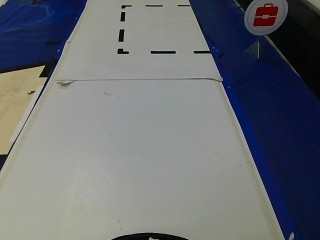company: (243, 1, 287, 35)
